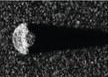mine: (10, 21, 108, 56)
